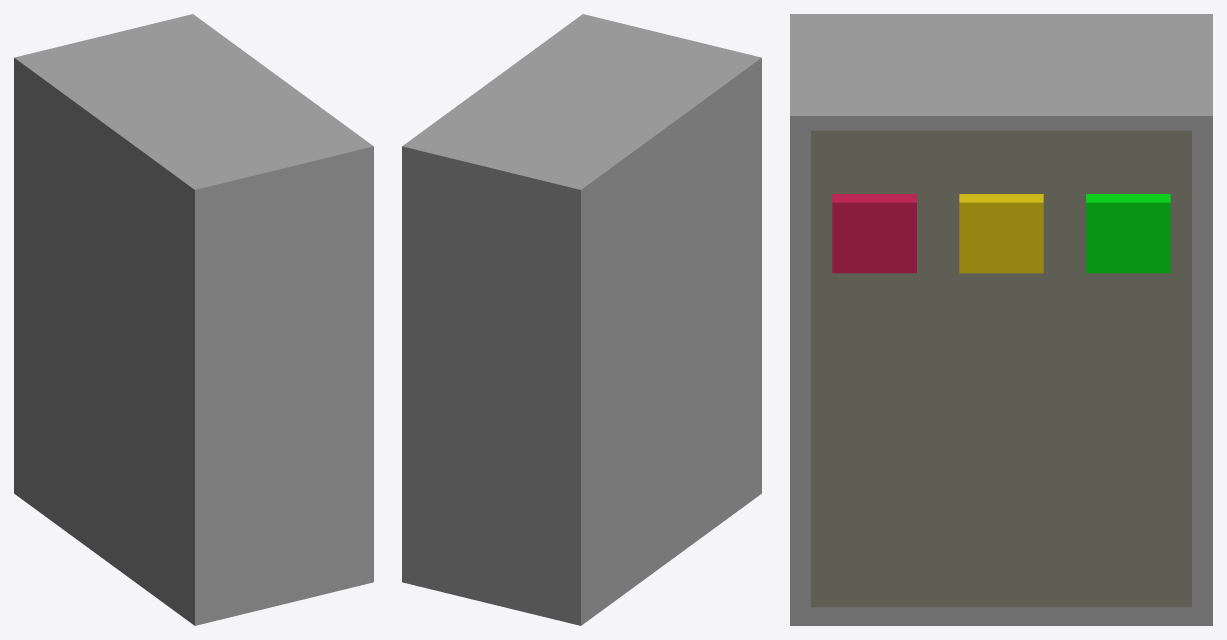
File: Kotak listrik.fbx
3 renders of one model, left to right at view 1: azimuth 30°, elevation 25°; view 2: azimuth 150°, elevation 25°; view 3: azimuth 270°, elevation 25°, orthographic. The views are drawn at different scales.
Visible parts, largest first — view 1: Cube; view 2: Cube; view 3: Cube.
Boxes of the visible parts, x1,y1,x2,y2 form: Cube: (14, 14, 373, 625); Cube: (402, 14, 761, 625); Cube: (790, 14, 1212, 625).
Size of the model in its own units: 217 by 466 by 350.
